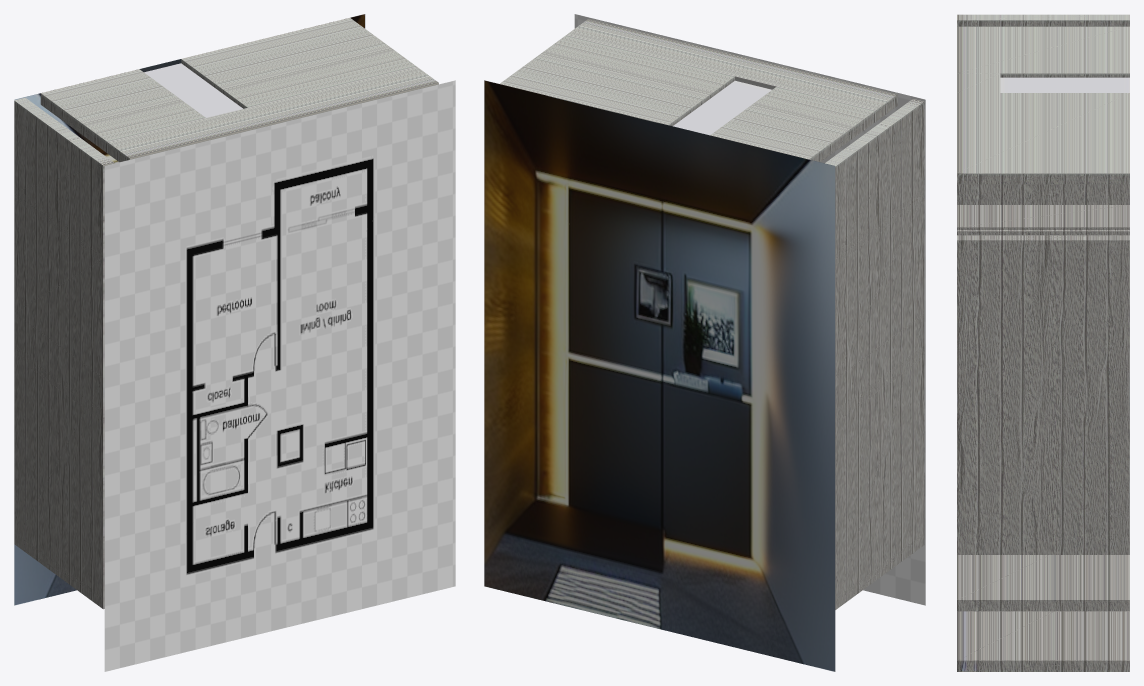
Rendered from floorplan1_interior.gltf.
The picture shows the model from 3 angles, left to right: view 1: azimuth 30°, elevation 25°; view 2: azimuth 150°, elevation 25°; view 3: azimuth 270°, elevation 25°; orthographic projection. The views are drawn at different scales.
Visible parts, largest first — view 1: FloorPlan, WallMesh, InteriorFloor, DoorMesh; view 2: InteriorFloor, WallMesh, FloorPlan, DoorMesh; view 3: WallMesh, DoorMesh.
Part boxes in pixels (<box>): FloorPlan: <box>104,80,455,671</box>; WallMesh: <box>14,18,438,609</box>; InteriorFloor: <box>14,14,365,605</box>; DoorMesh: <box>144,63,242,117</box>; InteriorFloor: <box>484,80,835,671</box>; WallMesh: <box>500,19,924,609</box>; FloorPlan: <box>574,14,925,605</box>; DoorMesh: <box>673,80,771,135</box>; WallMesh: <box>957,14,1129,671</box>; DoorMesh: <box>1000,77,1129,92</box>.
Bounding box in the file's own units: 6.38 × 8.79 × 2.85.
Materials: 5 (5 with a texture image).
